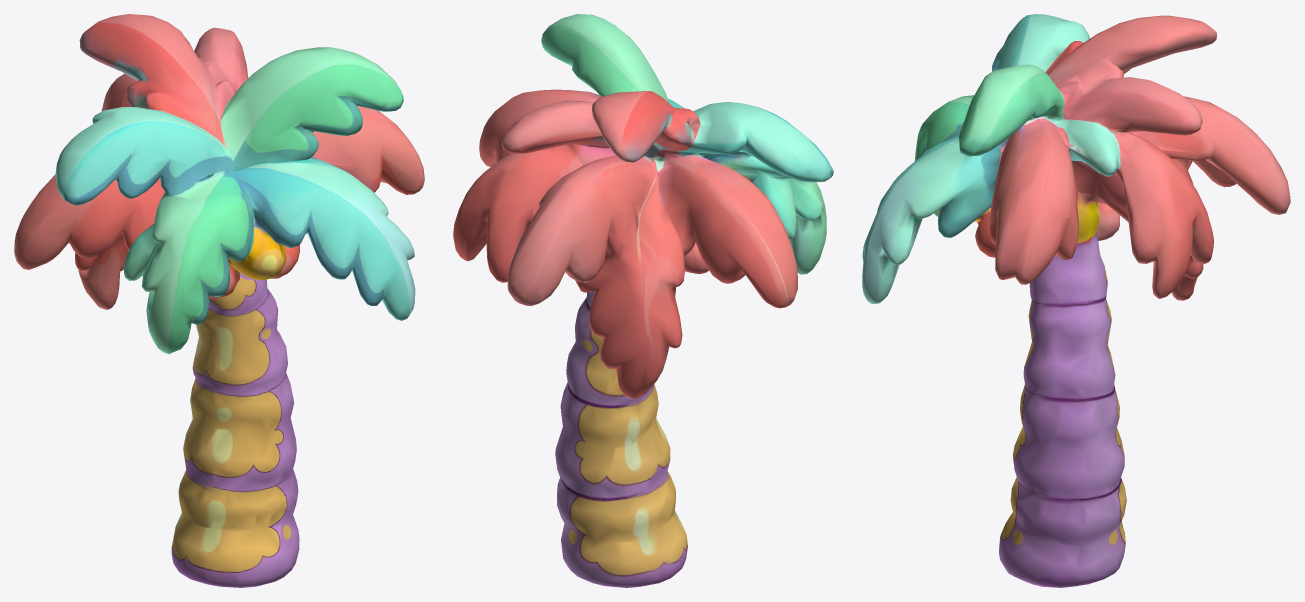
File: static.glb
3 renders of one model, left to right at view 1: azimuth 30°, elevation 25°; view 2: azimuth 150°, elevation 25°; view 3: azimuth 270°, elevation 25°, orthographic. The views are drawn at different scales.
Visible parts, largest first — view 1: Mesh_0; view 2: Mesh_0; view 3: Mesh_0.
Boxes of the visible parts, x1,y1,x2,y2 form: Mesh_0: [14, 14, 424, 587]; Mesh_0: [453, 14, 833, 587]; Mesh_0: [862, 14, 1290, 587].
Bounding box in the file's own units: 1.37 × 1.9 × 1.41.
Materials: 1 (1 with a texture image).
